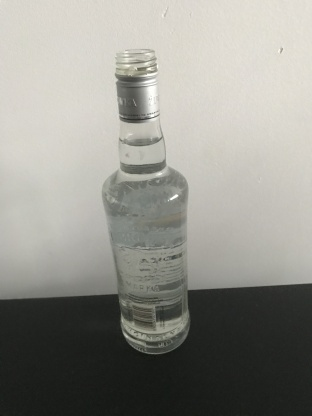nakretka: (113, 47, 161, 123)
